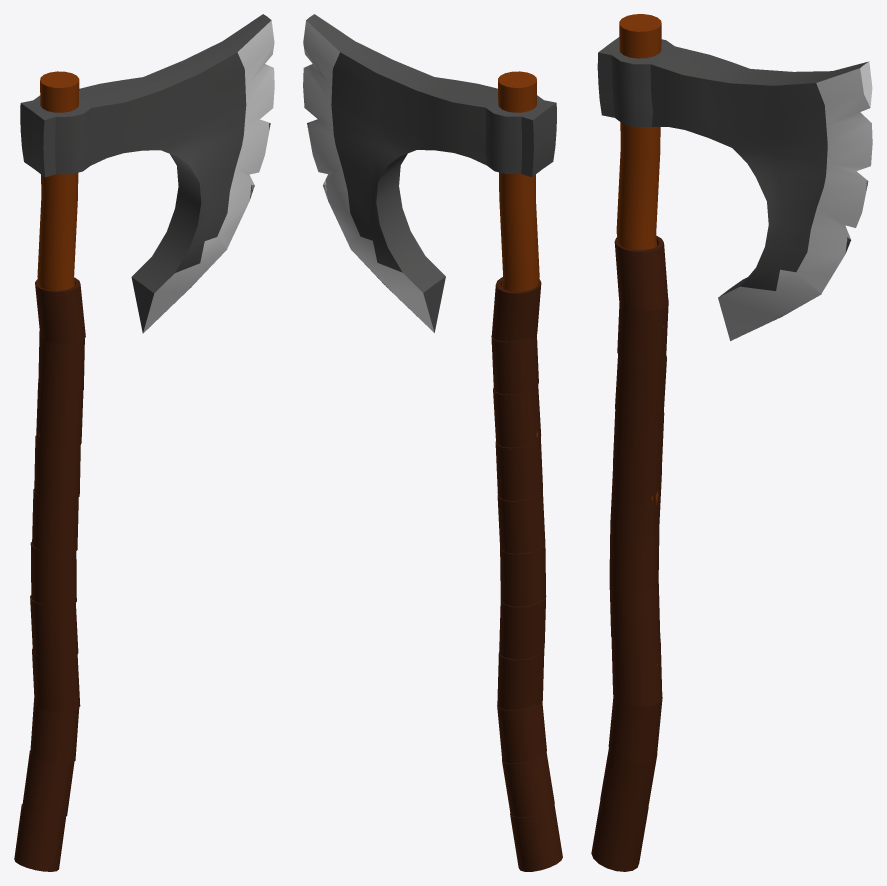
File: Modelisation_hache.fbx
3 renders of one model, left to right at view 1: azimuth 30°, elevation 25°; view 2: azimuth 150°, elevation 25°; view 3: azimuth 330°, elevation 25°, orthographic. The views are drawn at different scales.
Parts seen in each view (by area): view 1: Plane, Cylinder.001, Cylinder; view 2: Plane, Cylinder.001, Cylinder; view 3: Plane, Cylinder.001, Cylinder.
Part boxes in pixels (x1=…): Plane: x1=20, y1=14, x2=274, y2=333; Cylinder.001: x1=14, y1=277, x2=85, y2=871; Cylinder: x1=37, y1=71, x2=79, y2=437; Plane: x1=303, y1=14, x2=556, y2=332; Cylinder.001: x1=491, y1=277, x2=562, y2=871; Cylinder: x1=498, y1=71, x2=539, y2=437; Plane: x1=597, y1=37, x2=872, y2=340; Cylinder.001: x1=591, y1=235, x2=668, y2=871; Cylinder: x1=616, y1=14, x2=664, y2=666.
Size of the model in its own units: 202 by 599 by 41.4.
